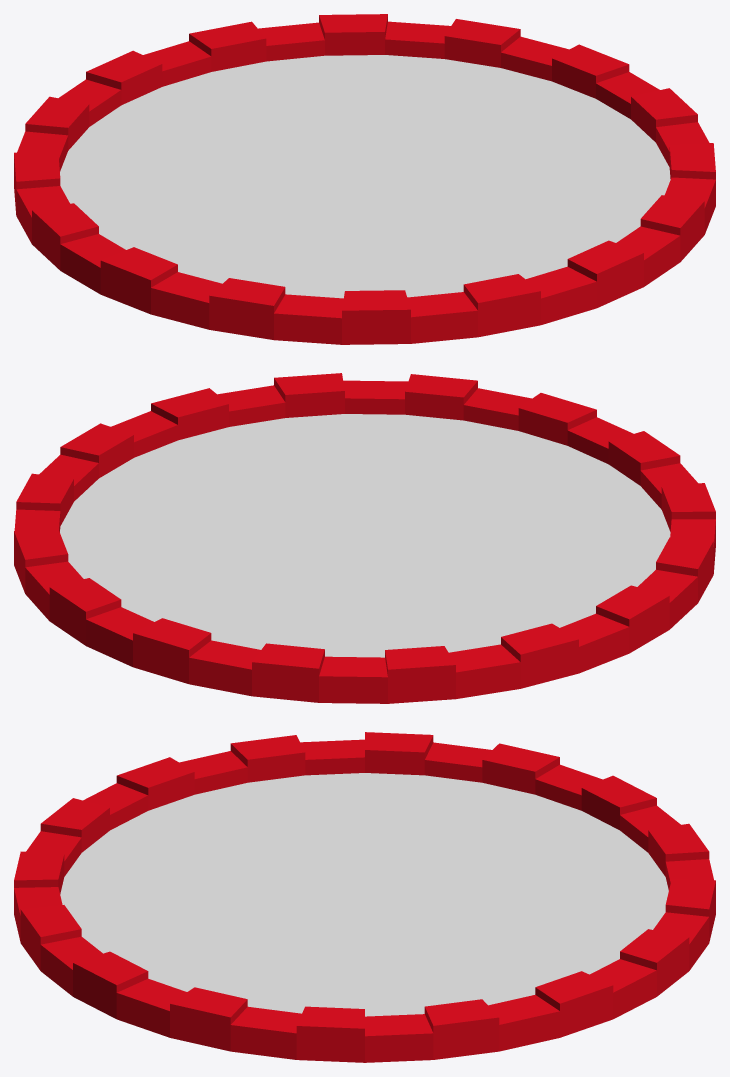
The model's file is selected_indicator.fbx.
The picture shows the model from 3 angles, top to bottom: view 1: azimuth 30°, elevation 25°; view 2: azimuth 150°, elevation 25°; view 3: azimuth 270°, elevation 25°; orthographic projection.
Parts seen in each view (by area): view 1: Cylinder; view 2: Cylinder; view 3: Cylinder.
Part boxes in pixels (x1,y1,x2,y2): Cylinder: (14, 14, 715, 344); Cylinder: (14, 373, 715, 703); Cylinder: (14, 732, 715, 1062).
Size of the model in its own units: 133 by 7.51 by 133.
